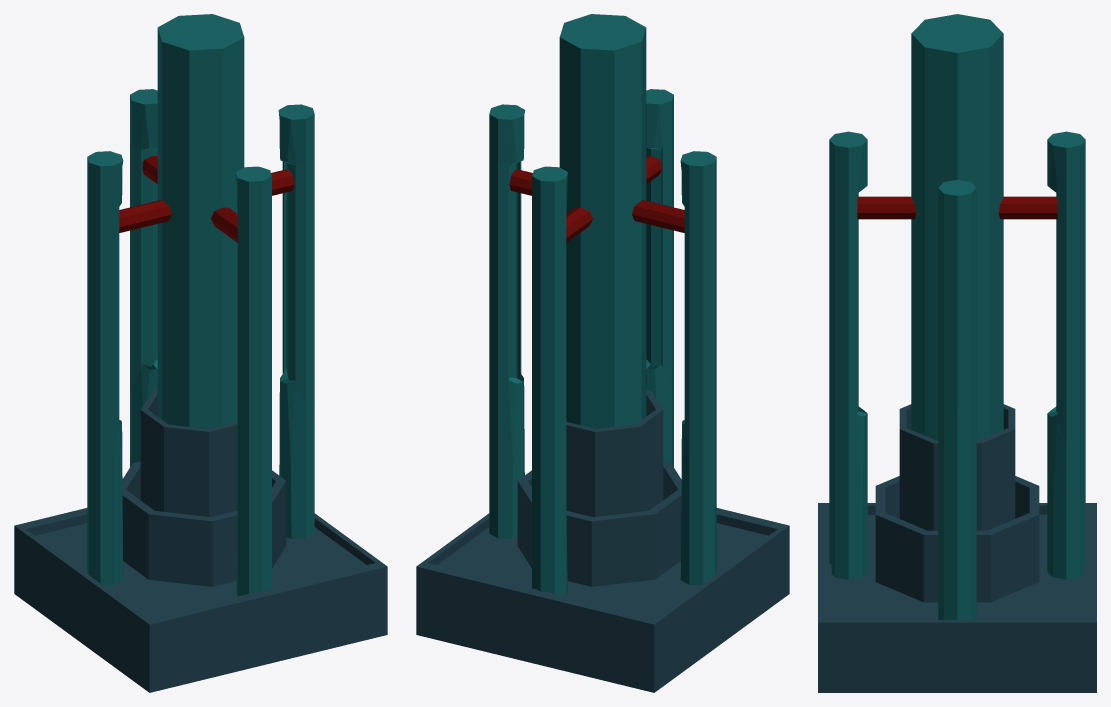
File: towerFarm3lvl.fbx
The picture shows the model from 3 angles, left to right: view 1: azimuth 30°, elevation 25°; view 2: azimuth 150°, elevation 25°; view 3: azimuth 270°, elevation 25°; orthographic projection. The views are drawn at different scales.
Parts seen in each view (by area): view 1: Cube.021, Cylinder.016, Cylinder.015, Cylinder.019, Cylinder.018, Cylinder.017, Cylinder.014, Cylinder.020; view 2: Cube.021, Cylinder.016, Cylinder.015, Cylinder.019, Cylinder.018, Cylinder.017, Cylinder.014, Cylinder.020; view 3: Cube.021, Cylinder.019, Cylinder.016, Cylinder.015, Cylinder.018, Cylinder.017, Cylinder.020.
Part boxes in pixels (bbox=[...]): Cube.021: bbox=[14, 508, 387, 692]; Cylinder.016: bbox=[157, 14, 244, 428]; Cylinder.015: bbox=[87, 104, 314, 585]; Cylinder.019: bbox=[130, 89, 271, 596]; Cylinder.018: bbox=[122, 461, 286, 586]; Cylinder.017: bbox=[140, 390, 237, 516]; Cylinder.014: bbox=[119, 169, 294, 232]; Cylinder.020: bbox=[142, 156, 237, 242]; Cube.021: bbox=[416, 508, 789, 692]; Cylinder.016: bbox=[559, 14, 646, 428]; Cylinder.015: bbox=[489, 104, 716, 585]; Cylinder.019: bbox=[532, 89, 673, 596]; Cylinder.018: bbox=[517, 461, 681, 586]; Cylinder.017: bbox=[566, 390, 663, 516]; Cylinder.014: bbox=[509, 169, 684, 232]; Cylinder.020: bbox=[566, 156, 661, 242]; Cube.021: bbox=[818, 503, 1096, 692]; Cylinder.019: bbox=[829, 131, 1085, 579]; Cylinder.016: bbox=[911, 14, 1003, 440]; Cylinder.015: bbox=[938, 179, 976, 619]; Cylinder.018: bbox=[875, 476, 1039, 602]; Cylinder.017: bbox=[899, 404, 1015, 530]; Cylinder.020: bbox=[857, 196, 1057, 219].
Bounding box in the file's own units: 195 × 455 × 192.
